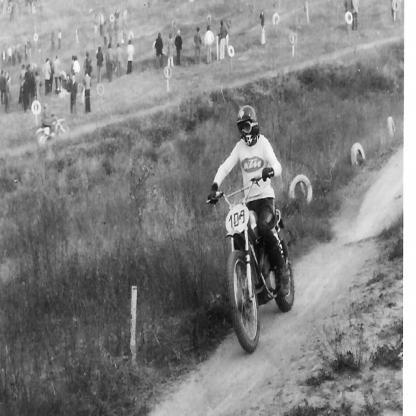motorcycle: (223, 182, 296, 349), (35, 113, 70, 148)
